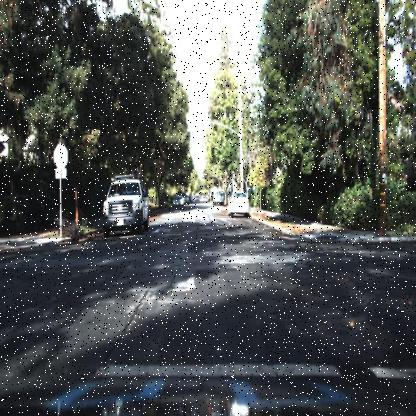car: (101, 167, 151, 239), (225, 189, 253, 216), (227, 188, 250, 218), (212, 186, 226, 208), (170, 194, 182, 209), (169, 196, 180, 212)
